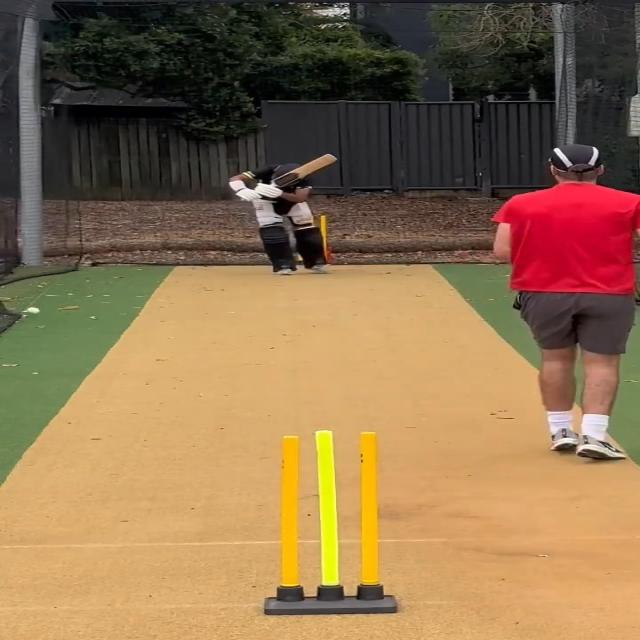stump: (261, 430, 399, 618)
